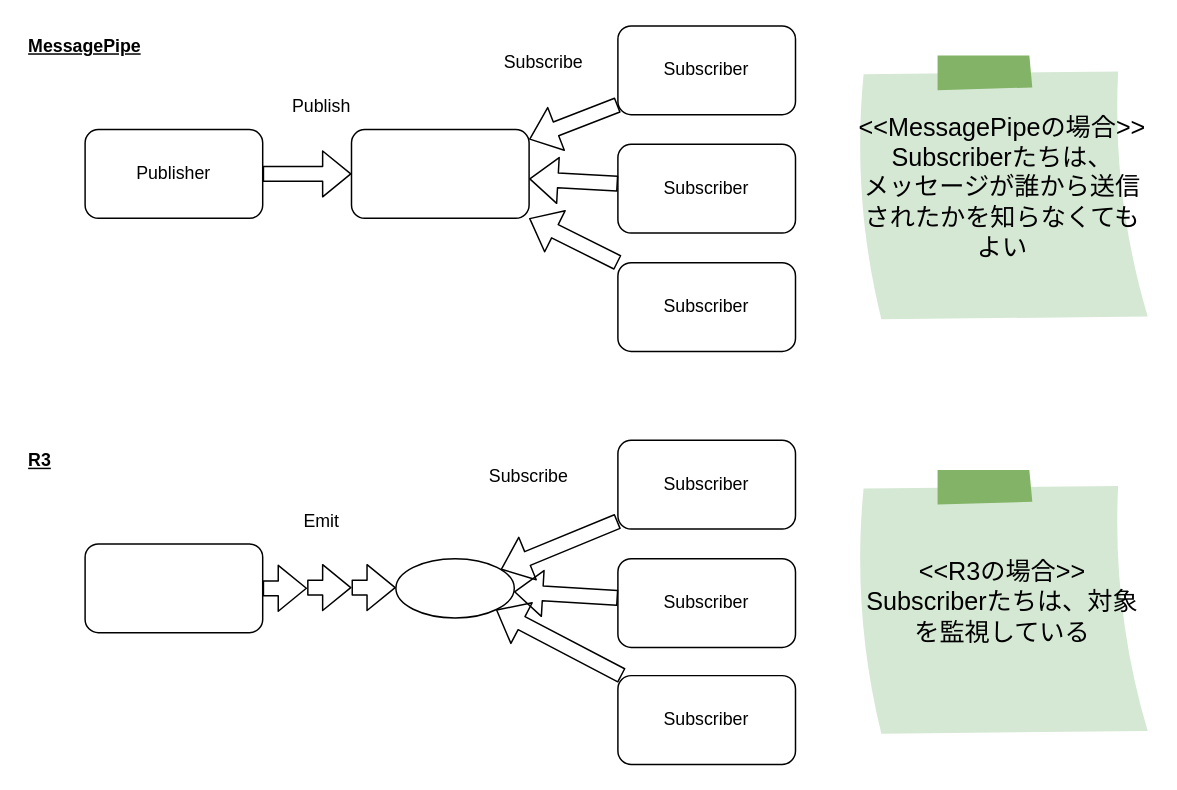
This 1177x790 diagram has some shape labels left out. Each missing label, with the centre of its shape:
"Message" belongs at point (439, 173).
"Observable" belongs at point (454, 587).
"Provider" belongs at point (173, 587).
